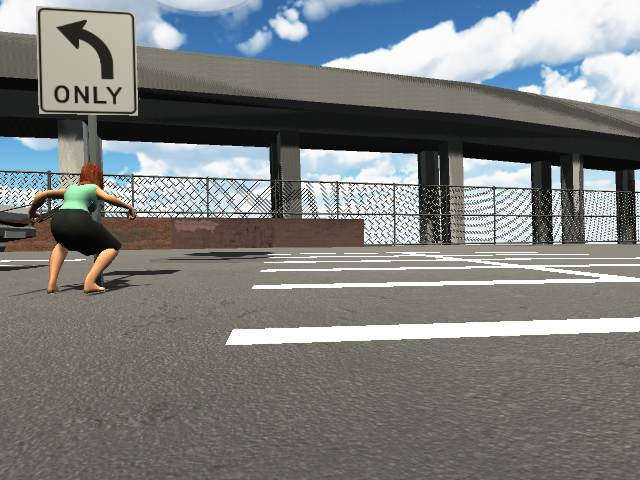arrow_left: (55, 17, 114, 80)
